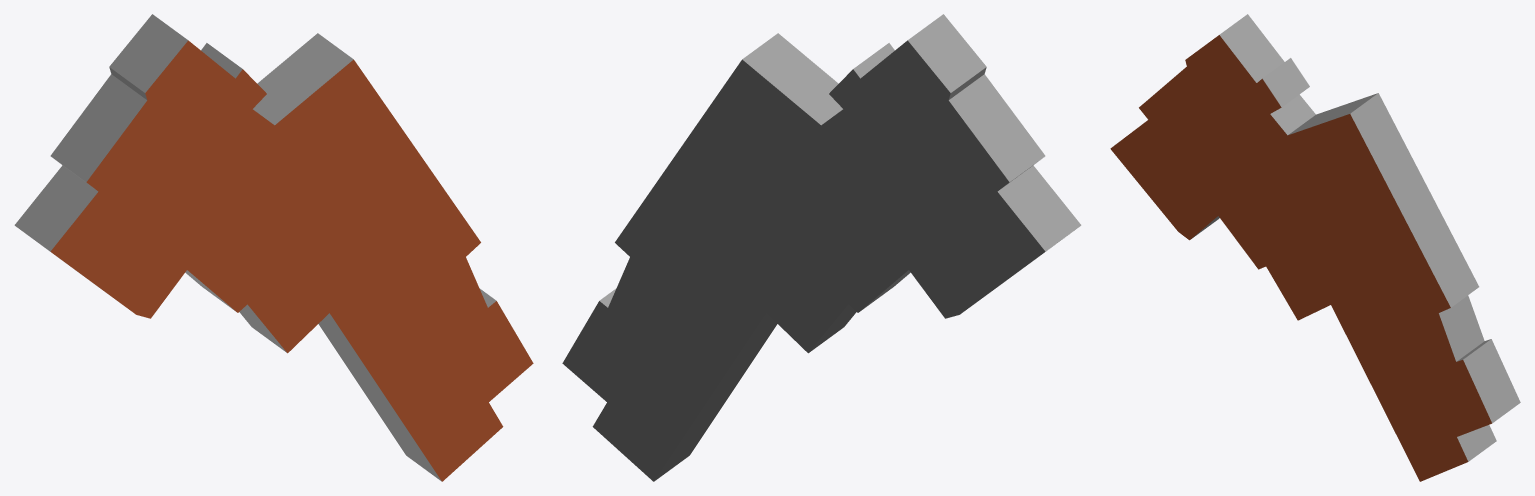
The model's file is construction_0496_assumed_A_Casa_h6m.obj.
The picture shows the model from 3 angles, left to right: view 1: azimuth 30°, elevation 25°; view 2: azimuth 150°, elevation 25°; view 3: azimuth 330°, elevation 25°; orthographic projection. The views are drawn at different scales.
Visible parts, largest first — view 1: construction_0496_assumed_A_Casa; view 2: construction_0496_assumed_A_Casa; view 3: construction_0496_assumed_A_Casa.
Part boxes in pixels (bbox=[...]): construction_0496_assumed_A_Casa: bbox=[14, 14, 533, 481]; construction_0496_assumed_A_Casa: bbox=[562, 14, 1081, 481]; construction_0496_assumed_A_Casa: bbox=[1110, 14, 1520, 481].
Bounding box in the file's own units: 46.49 × 46.3 × 6.
